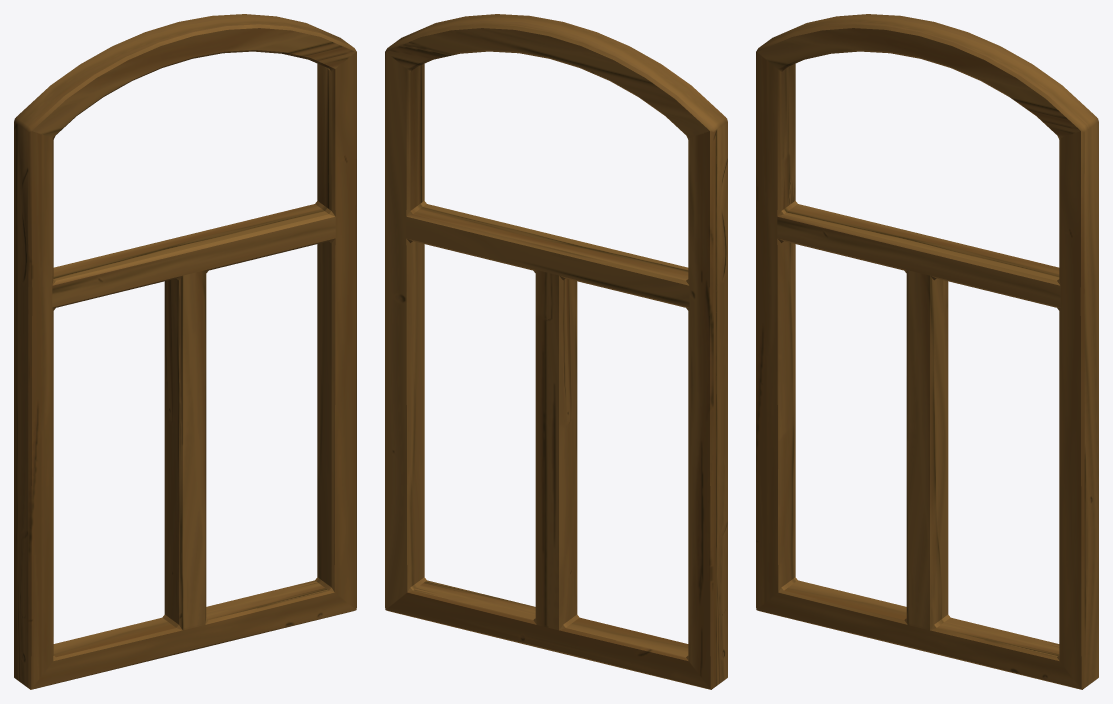
File: Frame arch.fbx
3 renders of one model, left to right at view 1: azimuth 30°, elevation 25°; view 2: azimuth 150°, elevation 25°; view 3: azimuth 330°, elevation 25°, orthographic.
Visible parts, largest first — view 1: Frame arch; view 2: Frame arch; view 3: Frame arch.
Boxes of the visible parts, <box> form: Frame arch: <box>14,14,356,689</box>; Frame arch: <box>385,14,727,689</box>; Frame arch: <box>756,14,1098,689</box>.
Size of the model in its own units: 65.7 by 118 by 5.88.
